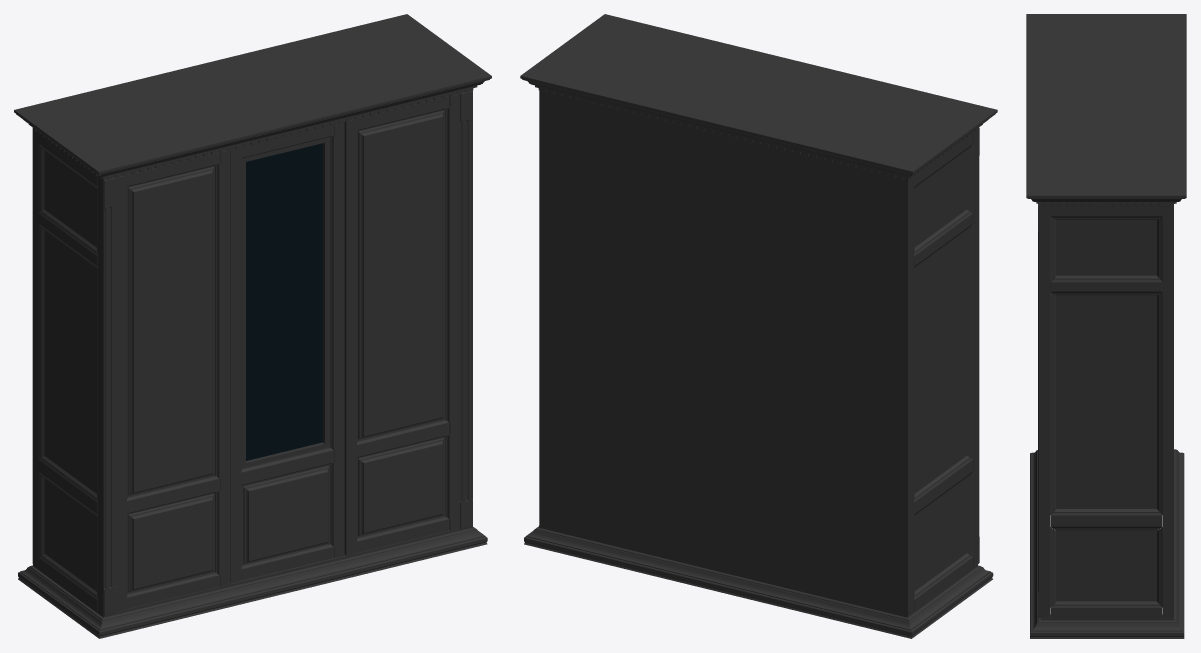
File: Cupboard.FBX
3 views of the same model, side by side, from view 1: azimuth 30°, elevation 25°; view 2: azimuth 150°, elevation 25°; view 3: azimuth 270°, elevation 25° (orthographic). The views are drawn at different scales.
Visible parts, largest first — view 1: Cupboard; view 2: Cupboard; view 3: Cupboard.
Boxes of the visible parts, left/top/right/bottom form: Cupboard: left=14, top=14, right=491, bottom=638; Cupboard: left=520, top=14, right=997, bottom=638; Cupboard: left=1026, top=14, right=1186, bottom=638.
Size of what is drawn, in the model's own units: 191 by 71.4 by 218.
